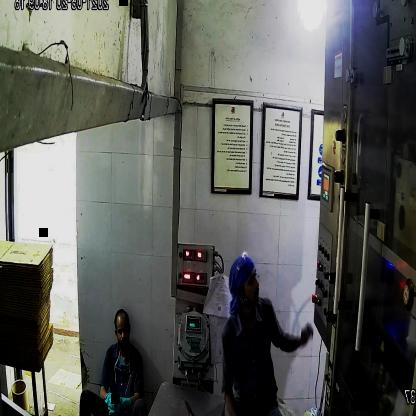no_goggles: (235, 265, 264, 296), (111, 318, 134, 340)
